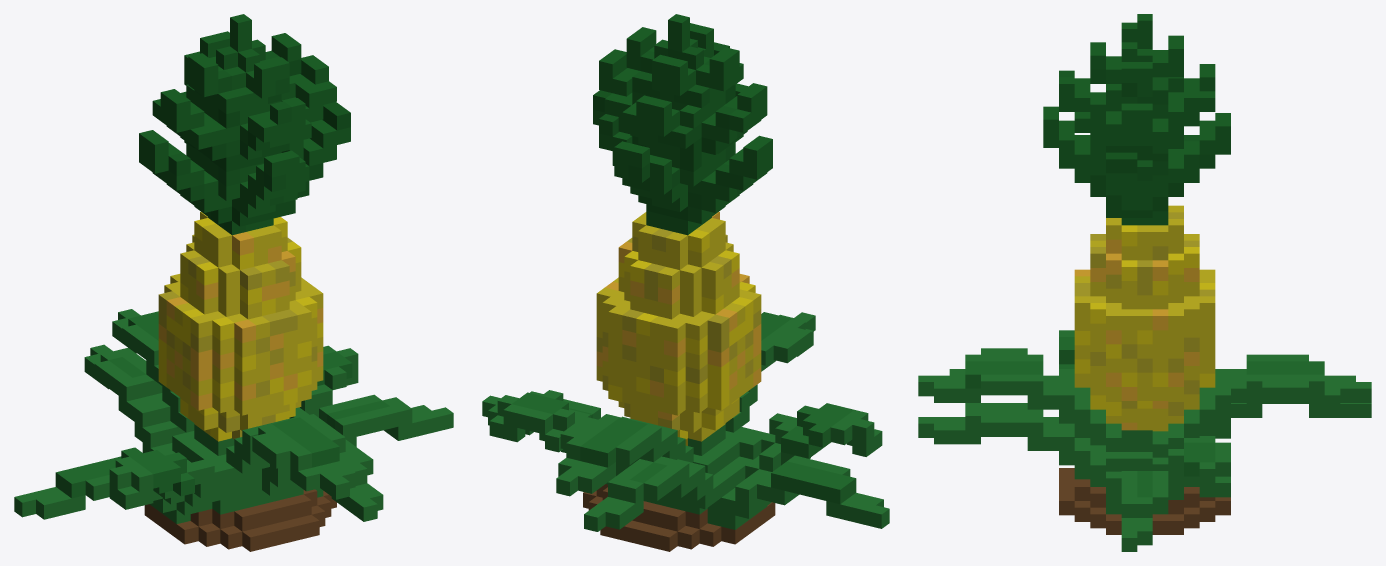
File: 0_1 abacx.obj
The picture shows the model from 3 angles, left to right: view 1: azimuth 30°, elevation 25°; view 2: azimuth 150°, elevation 25°; view 3: azimuth 270°, elevation 25°; orthographic projection. The views are drawn at different scales.
Size of the model in its own units: 3 by 3.4 by 2.9.
1 material, 1 textured.
